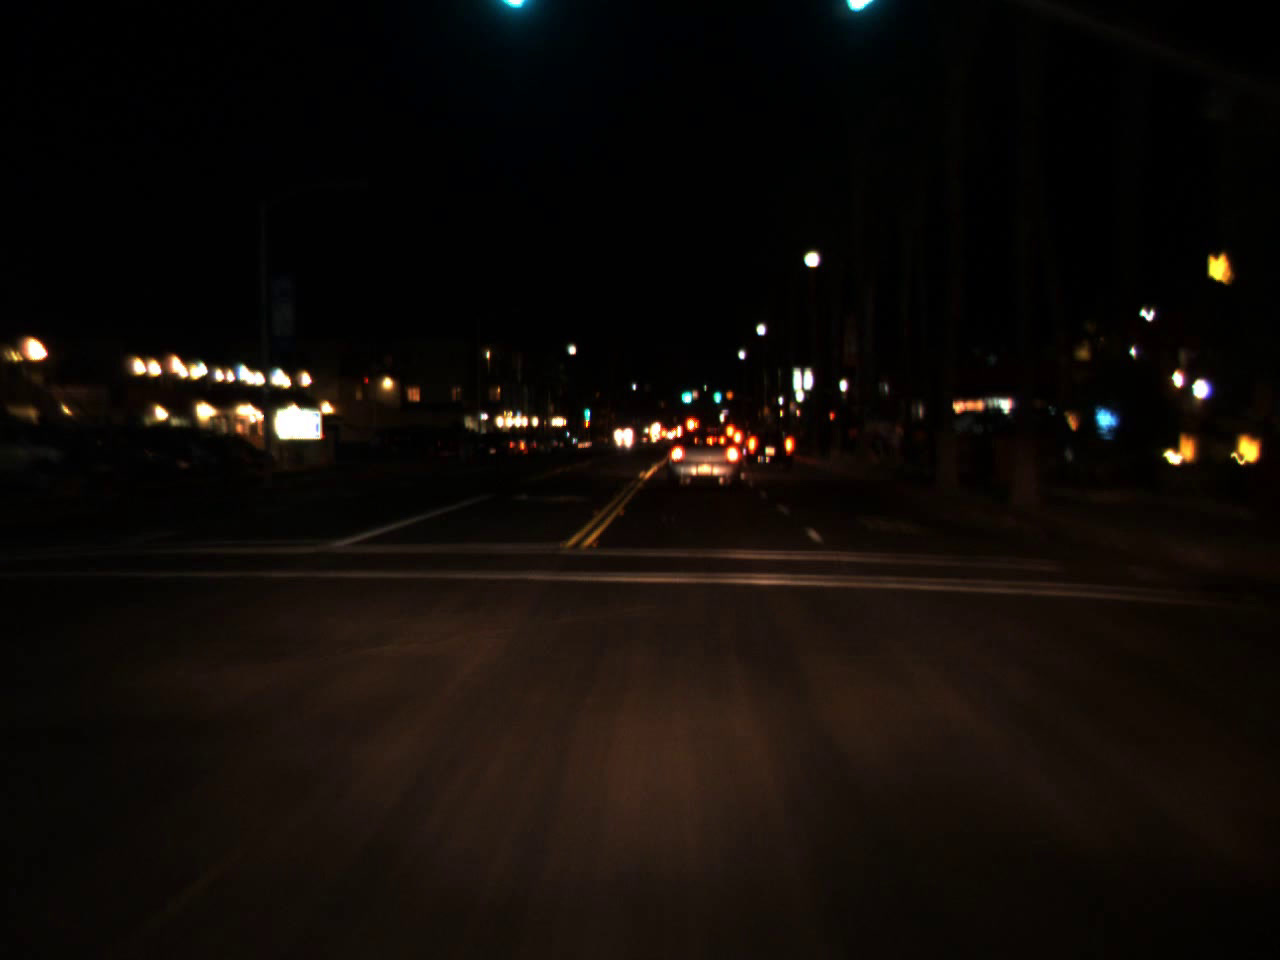go: (677, 381, 693, 405), (711, 379, 721, 406), (583, 395, 590, 425)
